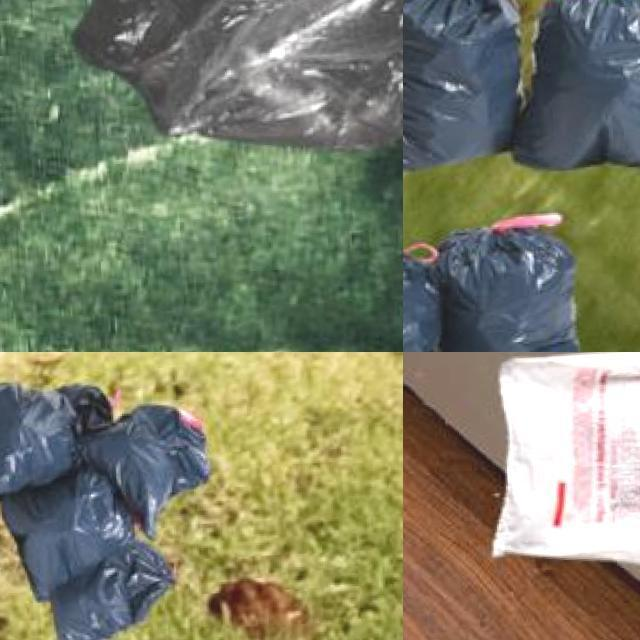waste: (78, 0, 403, 170), (477, 352, 640, 592), (424, 219, 597, 352), (516, 0, 640, 166), (403, 0, 526, 158), (95, 411, 216, 536), (0, 477, 138, 576), (47, 549, 192, 640), (0, 361, 109, 477)
